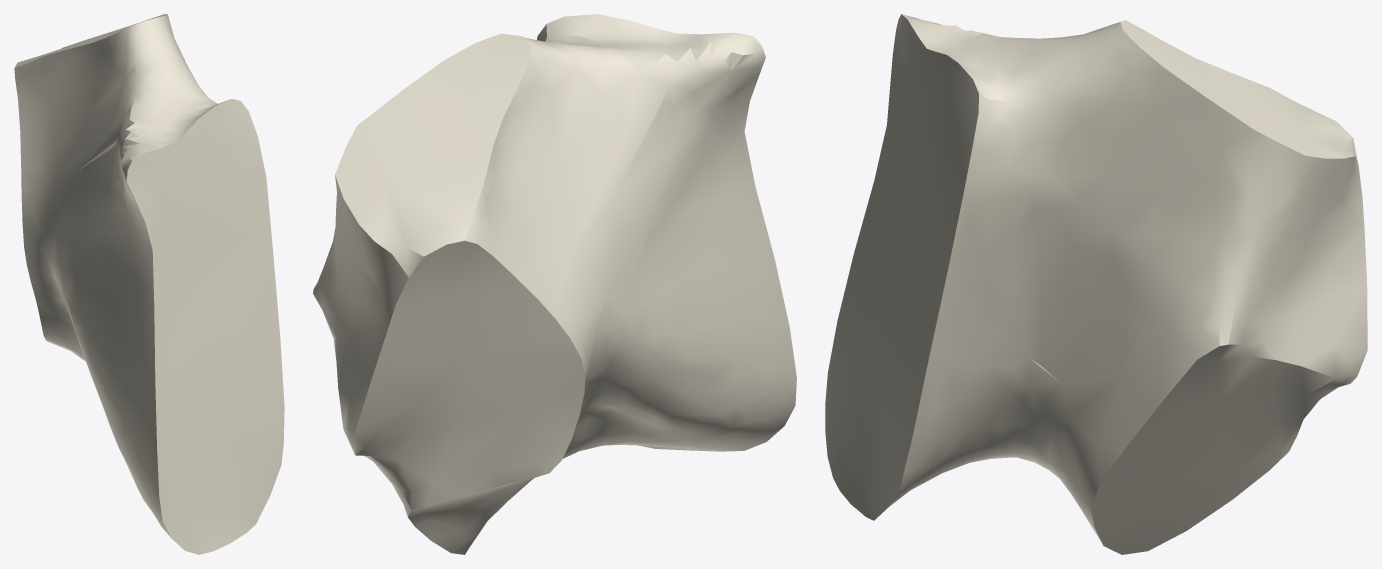
Rendered from fma12108_mm2393m.glb.
3 views of the same model, side by side, from view 1: azimuth 30°, elevation 25°; view 2: azimuth 150°, elevation 25°; view 3: azimuth 270°, elevation 25° (orthographic). The views are drawn at different scales.
Visible parts, largest first — view 1: FMA12108_MM2393M; view 2: FMA12108_MM2393M; view 3: FMA12108_MM2393M.
Boxes of the visible parts, x1,y1,x2,y2 form: FMA12108_MM2393M: (14,14,284,554); FMA12108_MM2393M: (313,14,796,554); FMA12108_MM2393M: (825,14,1367,554).
Size of the model in its own units: 0.0122 by 0.0211 by 0.0204.
